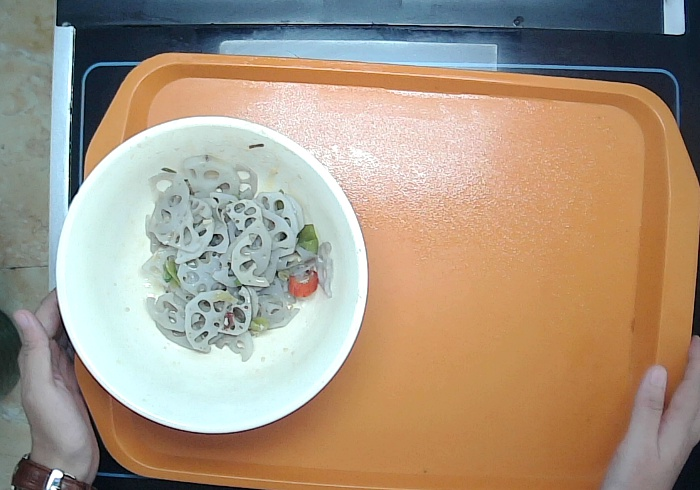ZNLD-Da_Tang_Wan: (51, 112, 370, 438)
